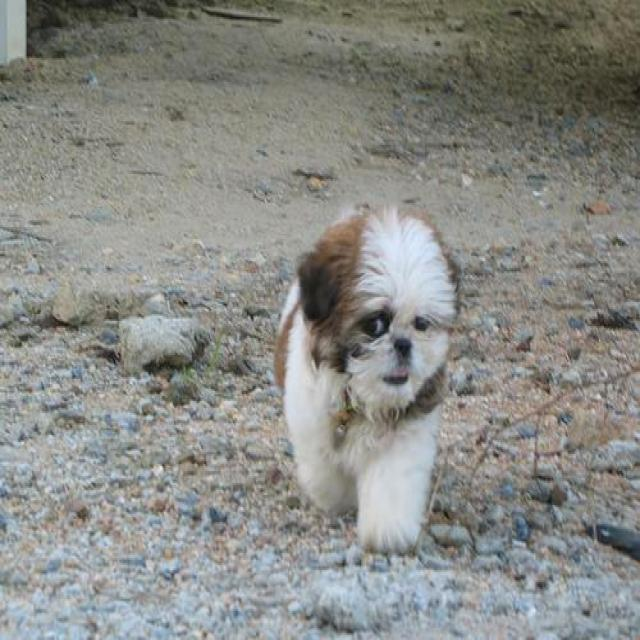shih_tzu: (271, 203, 465, 543)
